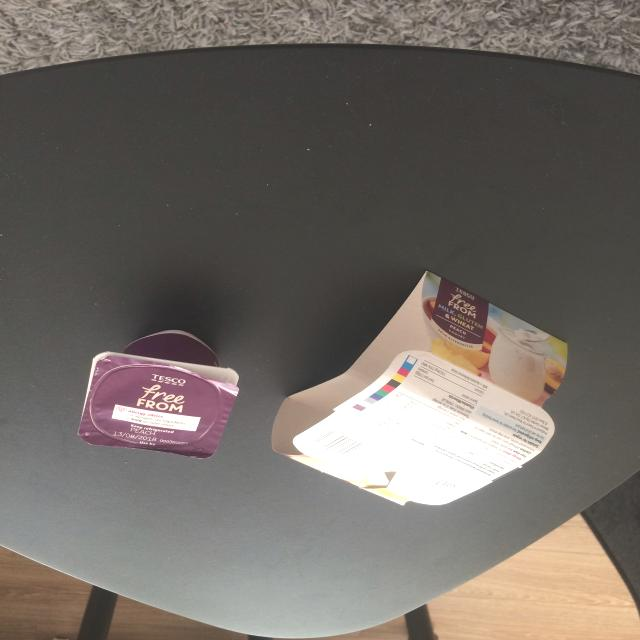Other carton: (271, 271, 568, 505)
Other plastic: (78, 355, 239, 458)
Spread tub: (78, 330, 239, 458)
